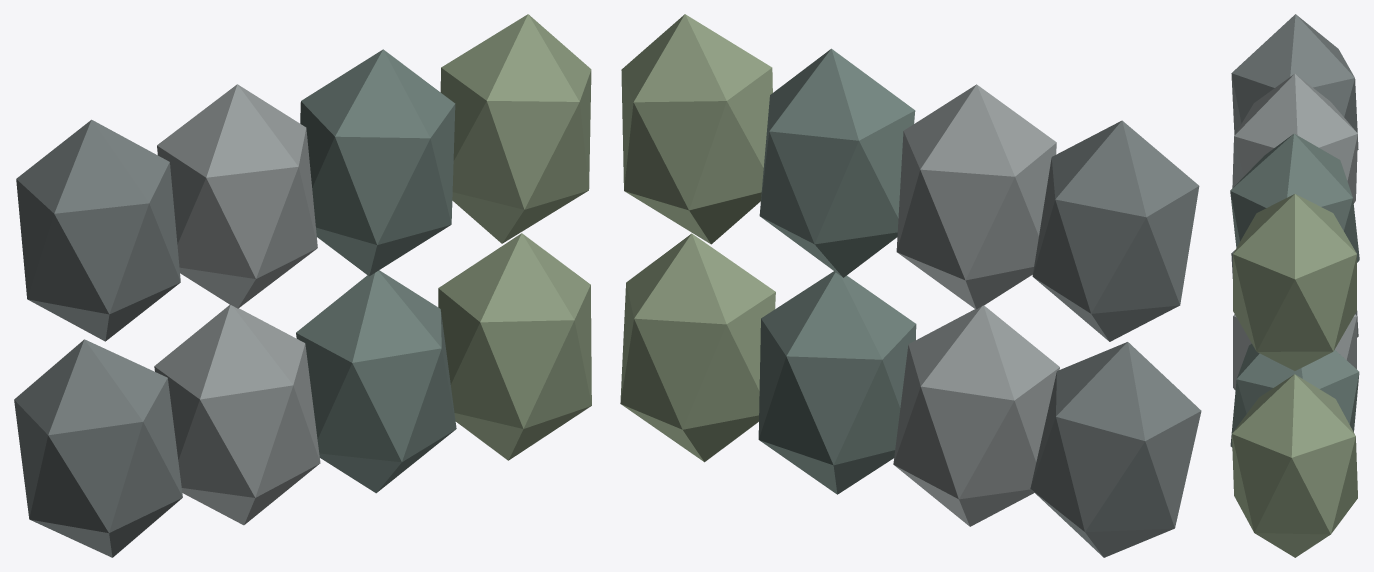
Rendered from wall_straight_4x3.glb.
3 renders of one model, left to right at view 1: azimuth 30°, elevation 25°; view 2: azimuth 150°, elevation 25°; view 3: azimuth 270°, elevation 25°, orthographic. The views are drawn at different scales.
Visible parts, largest first — view 1: cave_wall_straight_05, cave_wall_straight_01, cave_wall_straight_04, cave_wall_straight_07, cave_wall_straight_08, cave_wall_straight_02, cave_wall_straight_06, cave_wall_straight_03; view 2: cave_wall_straight_08, cave_wall_straight_05, cave_wall_straight_06, cave_wall_straight_03, cave_wall_straight_02, cave_wall_straight_01, cave_wall_straight_04, cave_wall_straight_07; view 3: cave_wall_straight_04, cave_wall_straight_08, cave_wall_straight_06, cave_wall_straight_05, cave_wall_straight_07, cave_wall_straight_03, cave_wall_straight_02.
Part boxes in pixels (box(x1,y1,x2,y2)): cave_wall_straight_05: box(16, 119, 180, 341); cave_wall_straight_01: box(14, 339, 182, 557); cave_wall_straight_04: box(438, 233, 591, 460); cave_wall_straight_07: box(300, 49, 455, 276); cave_wall_straight_08: box(440, 14, 591, 243); cave_wall_straight_02: box(154, 305, 320, 525); cave_wall_straight_06: box(157, 84, 317, 308); cave_wall_straight_03: box(296, 270, 456, 493); cave_wall_straight_08: box(621, 14, 772, 244); cave_wall_straight_05: box(1032, 120, 1199, 341); cave_wall_straight_06: box(896, 84, 1056, 309); cave_wall_straight_03: box(758, 271, 916, 494); cave_wall_straight_02: box(893, 305, 1059, 526); cave_wall_straight_01: box(1030, 342, 1201, 557); cave_wall_straight_04: box(620, 233, 775, 462); cave_wall_straight_07: box(759, 48, 915, 277); cave_wall_straight_04: box(1232, 374, 1357, 557); cave_wall_straight_08: box(1233, 194, 1356, 370); cave_wall_straight_06: box(1232, 74, 1357, 203); cave_wall_straight_05: box(1231, 14, 1358, 149); cave_wall_straight_07: box(1230, 133, 1359, 262); cave_wall_straight_03: box(1230, 343, 1359, 447); cave_wall_straight_02: box(1233, 314, 1356, 390).
Size of the model in its own units: 4.04 by 3.05 by 0.9606.
